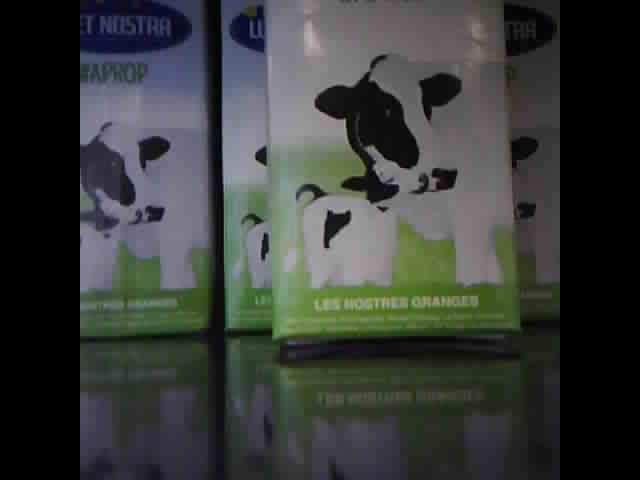leche: (271, 4, 511, 349), (81, 3, 210, 339), (505, 3, 559, 321), (222, 3, 271, 334)
